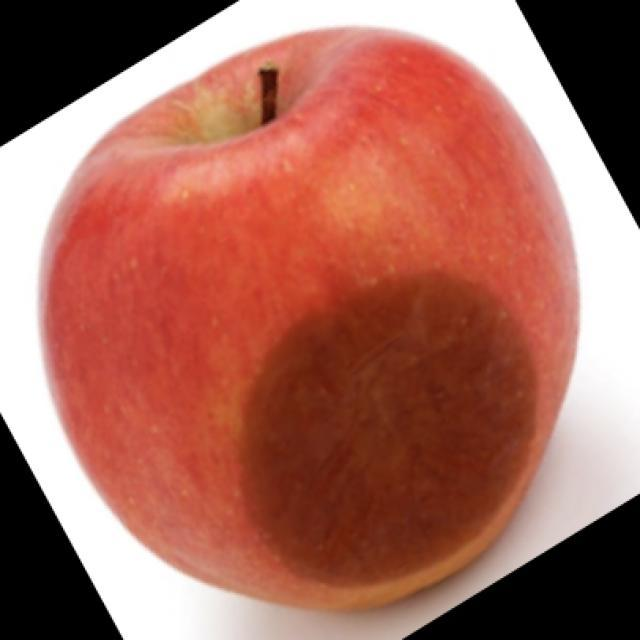Rotten: (56, 30, 566, 600)
